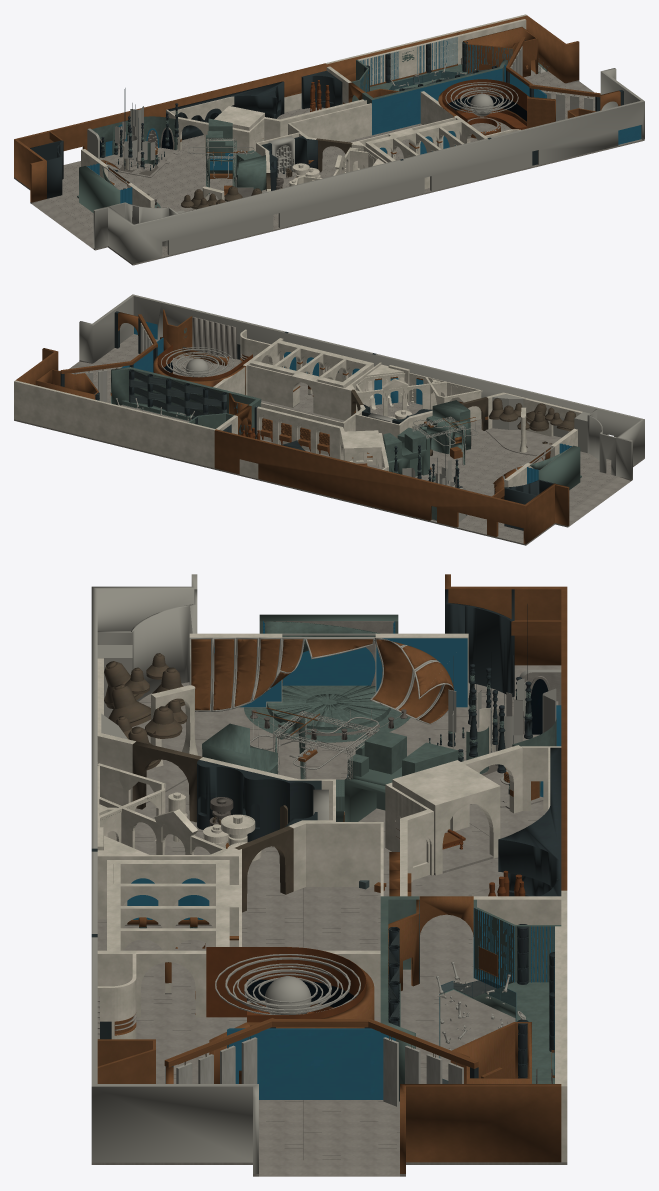
Rendered from pavilion.glb.
3 renders of one model, top to bottom at view 1: azimuth 30°, elevation 25°; view 2: azimuth 150°, elevation 25°; view 3: azimuth 270°, elevation 25°, orthographic. The views are drawn at different scales.
Parts seen in each view (by area): view 1: Pavilion_neutral, Pavilion_plaster, Pavilion_object, Pavilion_tile, Pavilion_technical, Pavilion_scenery, Pavilion_screen, Pavilion_veneer, Pavilion_equipment, Pavilion_floor, Pavilion_glass, Pavilion_panorama (+2 smaller); view 2: Pavilion_plaster, Pavilion_object, Pavilion_neutral, Pavilion_tile, Pavilion_scenery, Pavilion_technical, Pavilion_textile, Pavilion_equipment, Pavilion_screen, Pavilion_floor, Pavilion_veneer; view 3: Pavilion_tile, Pavilion_plaster, Pavilion_object, Pavilion_neutral, Pavilion_scenery, Pavilion_technical, Pavilion_screen, Pavilion_equipment, Pavilion_veneer, Pavilion_floor, Pavilion_glass, Pavilion_metal (+1 smaller).
Part boxes in pixels (box(x1,y1,x2,y2)): Pavilion_neutral: box(87, 46, 644, 263); Pavilion_plaster: box(81, 14, 526, 207); Pavilion_object: box(14, 15, 620, 202); Pavilion_tile: box(14, 70, 644, 265); Pavilion_technical: box(30, 40, 623, 198); Pavilion_scenery: box(77, 50, 546, 212); Pavilion_screen: box(87, 37, 641, 204); Pavilion_veneer: box(442, 79, 527, 137); Pavilion_equipment: box(181, 60, 588, 210); Pavilion_floor: box(88, 117, 500, 205); Pavilion_glass: box(389, 71, 464, 156); Pavilion_panorama: box(447, 96, 526, 121); Pavilion_plaster: box(14, 329, 582, 487); Pavilion_object: box(16, 309, 569, 544); Pavilion_neutral: box(76, 294, 644, 522); Pavilion_tile: box(14, 334, 644, 545); Pavilion_scenery: box(111, 328, 581, 520); Pavilion_technical: box(60, 311, 553, 530); Pavilion_textile: box(129, 371, 226, 416); Pavilion_equipment: box(74, 336, 575, 455); Pavilion_screen: box(94, 321, 571, 484); Pavilion_floor: box(182, 317, 570, 469); Pavilion_veneer: box(157, 345, 252, 380); Pavilion_tile: box(91, 665, 567, 1176); Pavilion_plaster: box(97, 633, 567, 1162); Pavilion_object: box(97, 574, 567, 1173); Pavilion_neutral: box(91, 574, 561, 1173); Pavilion_scenery: box(139, 614, 561, 1101); Pavilion_technical: box(91, 589, 561, 1083); Pavilion_screen: box(127, 621, 561, 1099); Pavilion_equipment: box(104, 653, 456, 1065); Pavilion_veneer: box(206, 947, 366, 1022); Pavilion_floor: box(97, 621, 561, 1039); Pavilion_glass: box(439, 978, 516, 1083); Pavilion_metal: box(209, 709, 552, 1083).
Size of the model in its own units: 79.79 by 13.22 by 30.62.
13 materials, 13 textured.
